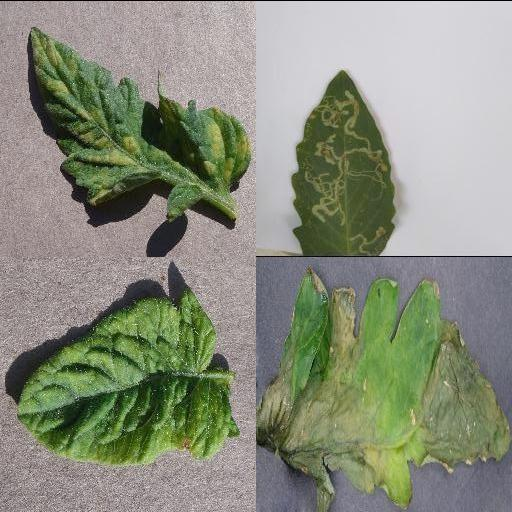Late Blight: (256, 266, 512, 512)
Leaf Miner: (292, 69, 398, 253)
Leaf Mold: (29, 25, 251, 221)
Yellow Leaf Curl Virus: (14, 289, 242, 463)
